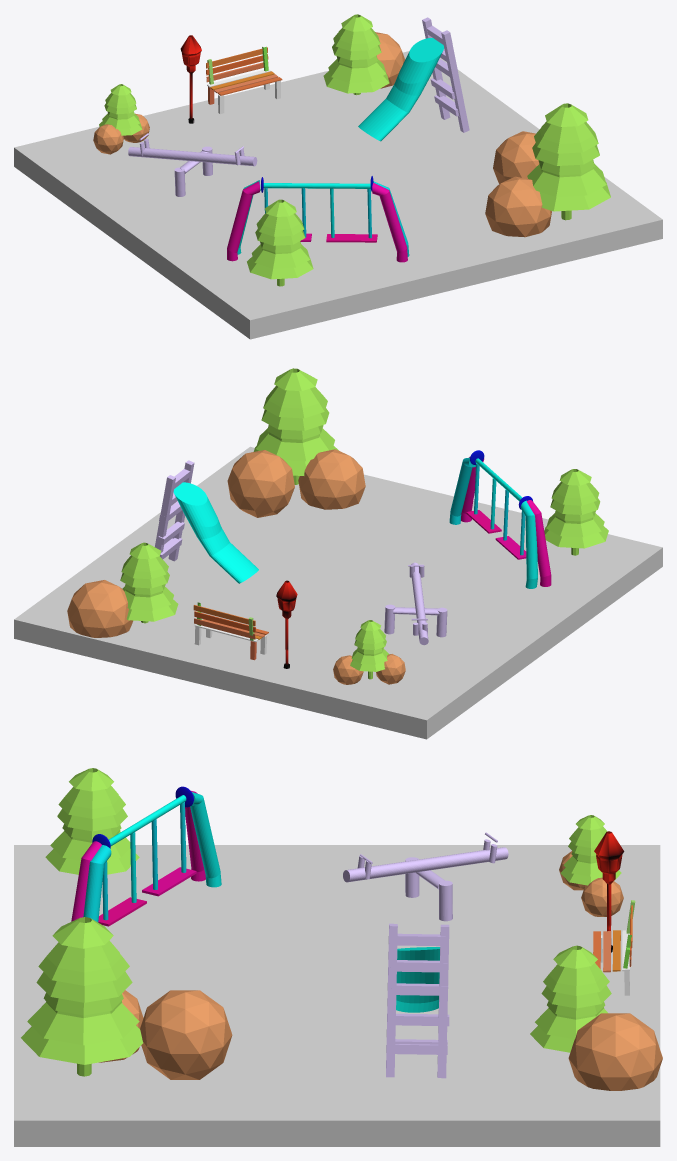
File: _park.fbx
The picture shows the model from 3 angles, top to bottom: view 1: azimuth 30°, elevation 25°; view 2: azimuth 150°, elevation 25°; view 3: azimuth 270°, elevation 25°; orthographic projection. The views are drawn at different scales.
Parts seen in each view (by area): view 1: Cube; view 2: Cube; view 3: Cube.
Part boxes in pixels (x1,y1,x2,y2): Cube: (14, 14, 662, 339); Cube: (14, 368, 662, 739); Cube: (14, 768, 662, 1146).
Bounding box in the file's own units: 1748 × 536 × 1739.
